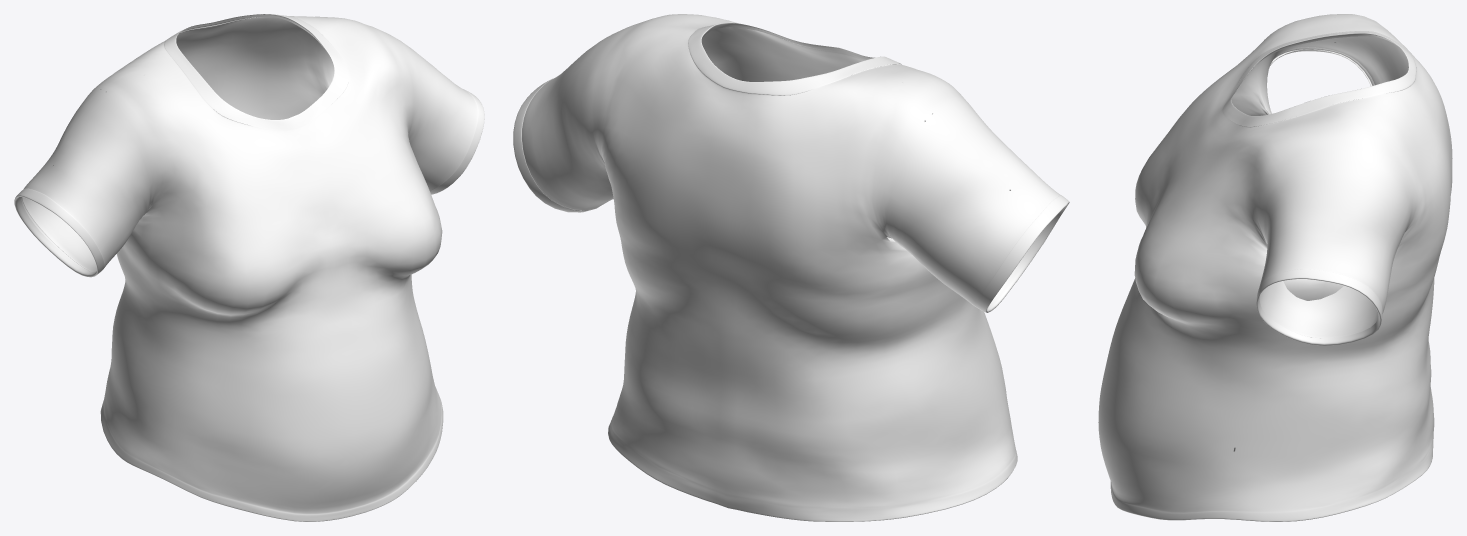
The model's file is Shirt.glb.
The picture shows the model from 3 angles, left to right: view 1: azimuth 30°, elevation 25°; view 2: azimuth 150°, elevation 25°; view 3: azimuth 270°, elevation 25°; orthographic projection. The views are drawn at different scales.
Visible parts, largest first — view 1: TShirt_for_Genesis.002; view 2: TShirt_for_Genesis.002; view 3: TShirt_for_Genesis.002.
Boxes of the visible parts, x1=… form: TShirt_for_Genesis.002: x1=14, y1=14, x2=484, y2=521; TShirt_for_Genesis.002: x1=513, y1=14, x2=1069, y2=521; TShirt_for_Genesis.002: x1=1098, y1=14, x2=1452, y2=521.
Size of the model in its own units: 12.99 by 11.28 by 8.47.
1 material, 1 textured.
